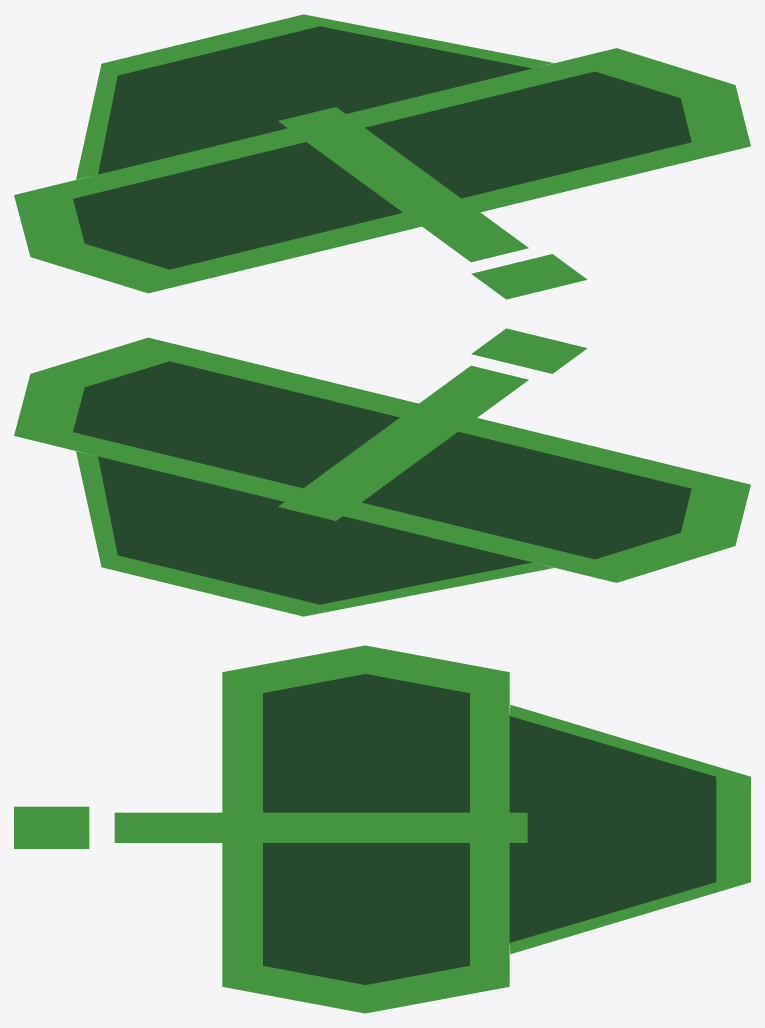
Rendered from tank2d.fbx.
3 views of the same model, one above another, from view 1: azimuth 30°, elevation 25°; view 2: azimuth 150°, elevation 25°; view 3: azimuth 270°, elevation 25° (orthographic). The views are drawn at different scales.
Parts seen in each view (by area): view 1: Tank, Cannon; view 2: Tank, Cannon; view 3: Tank, Cannon.
Part boxes in pixels (x1,y1,x2,y2): Tank: [14, 14, 750, 293]; Cannon: [278, 107, 587, 299]; Tank: [14, 337, 750, 616]; Cannon: [278, 328, 587, 520]; Tank: [222, 645, 750, 1013]; Cannon: [14, 806, 527, 848].
Size of the model in its own units: 2 by 485 by 410.
